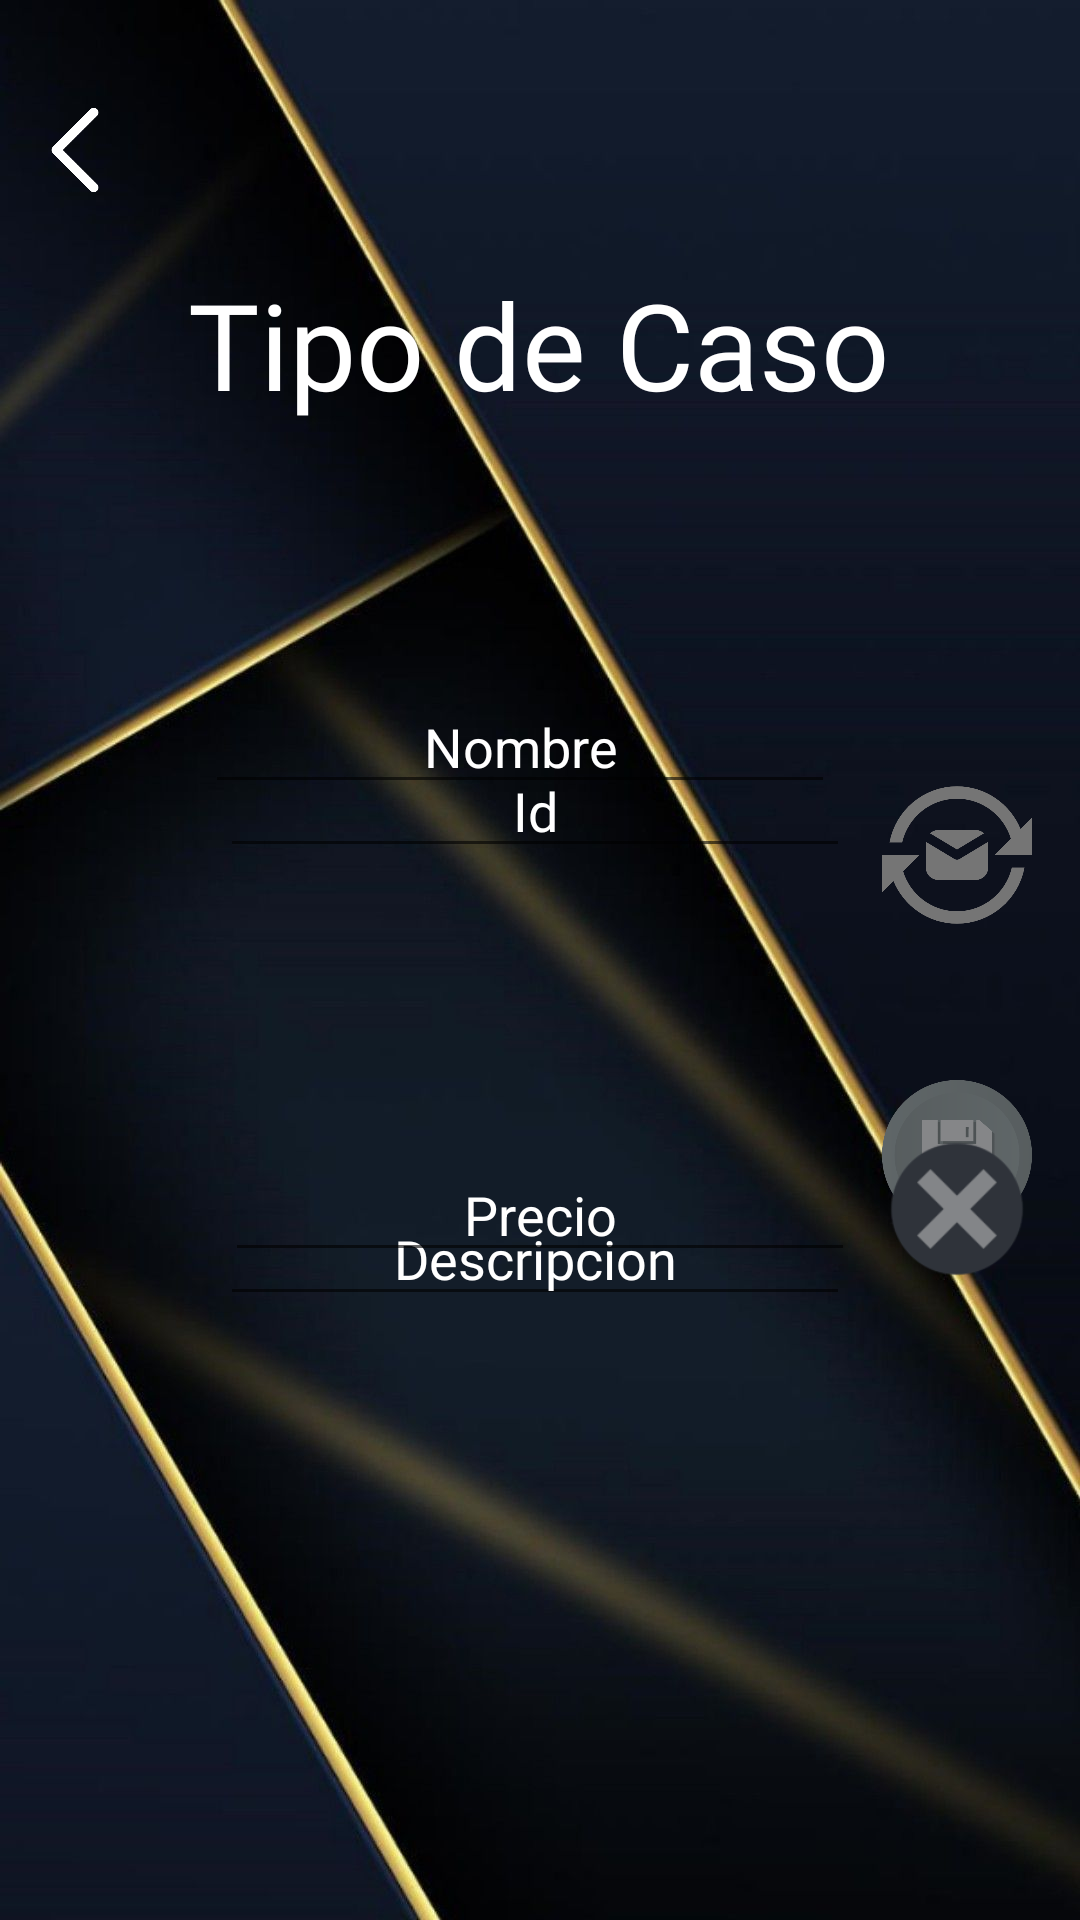

Icon click points for this 1080 × 1920 phone screenshot, format point (x, y):
actualizar: point (957, 855)
